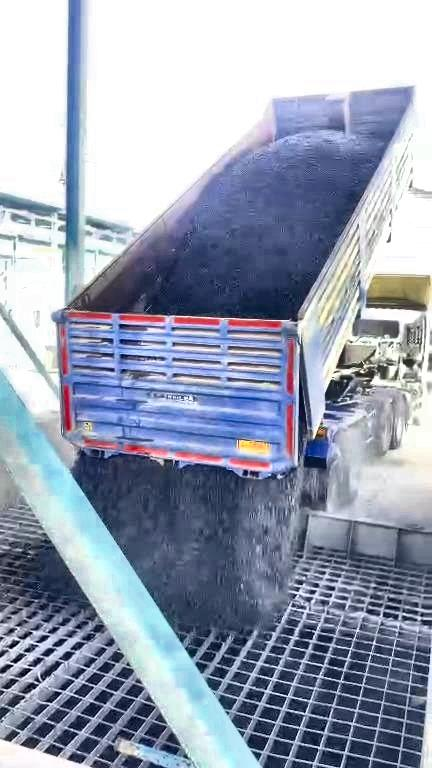gravel: (151, 131, 381, 318), (74, 454, 304, 627), (33, 549, 81, 597)
